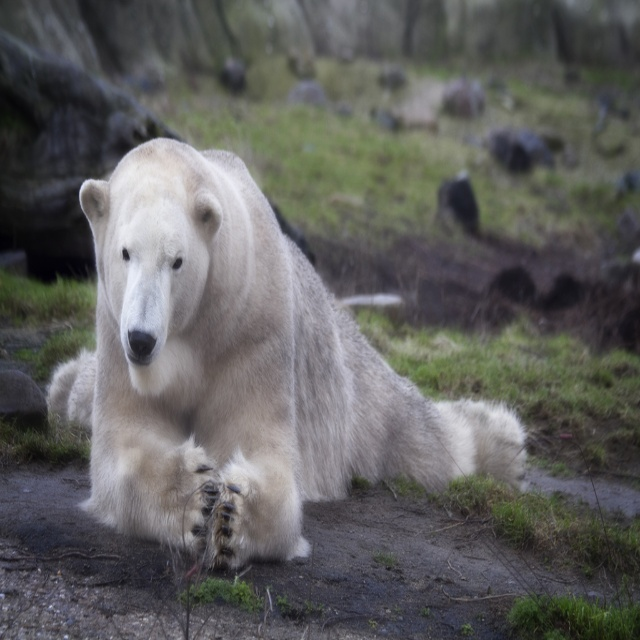Polar bear: (46, 141, 527, 564)
